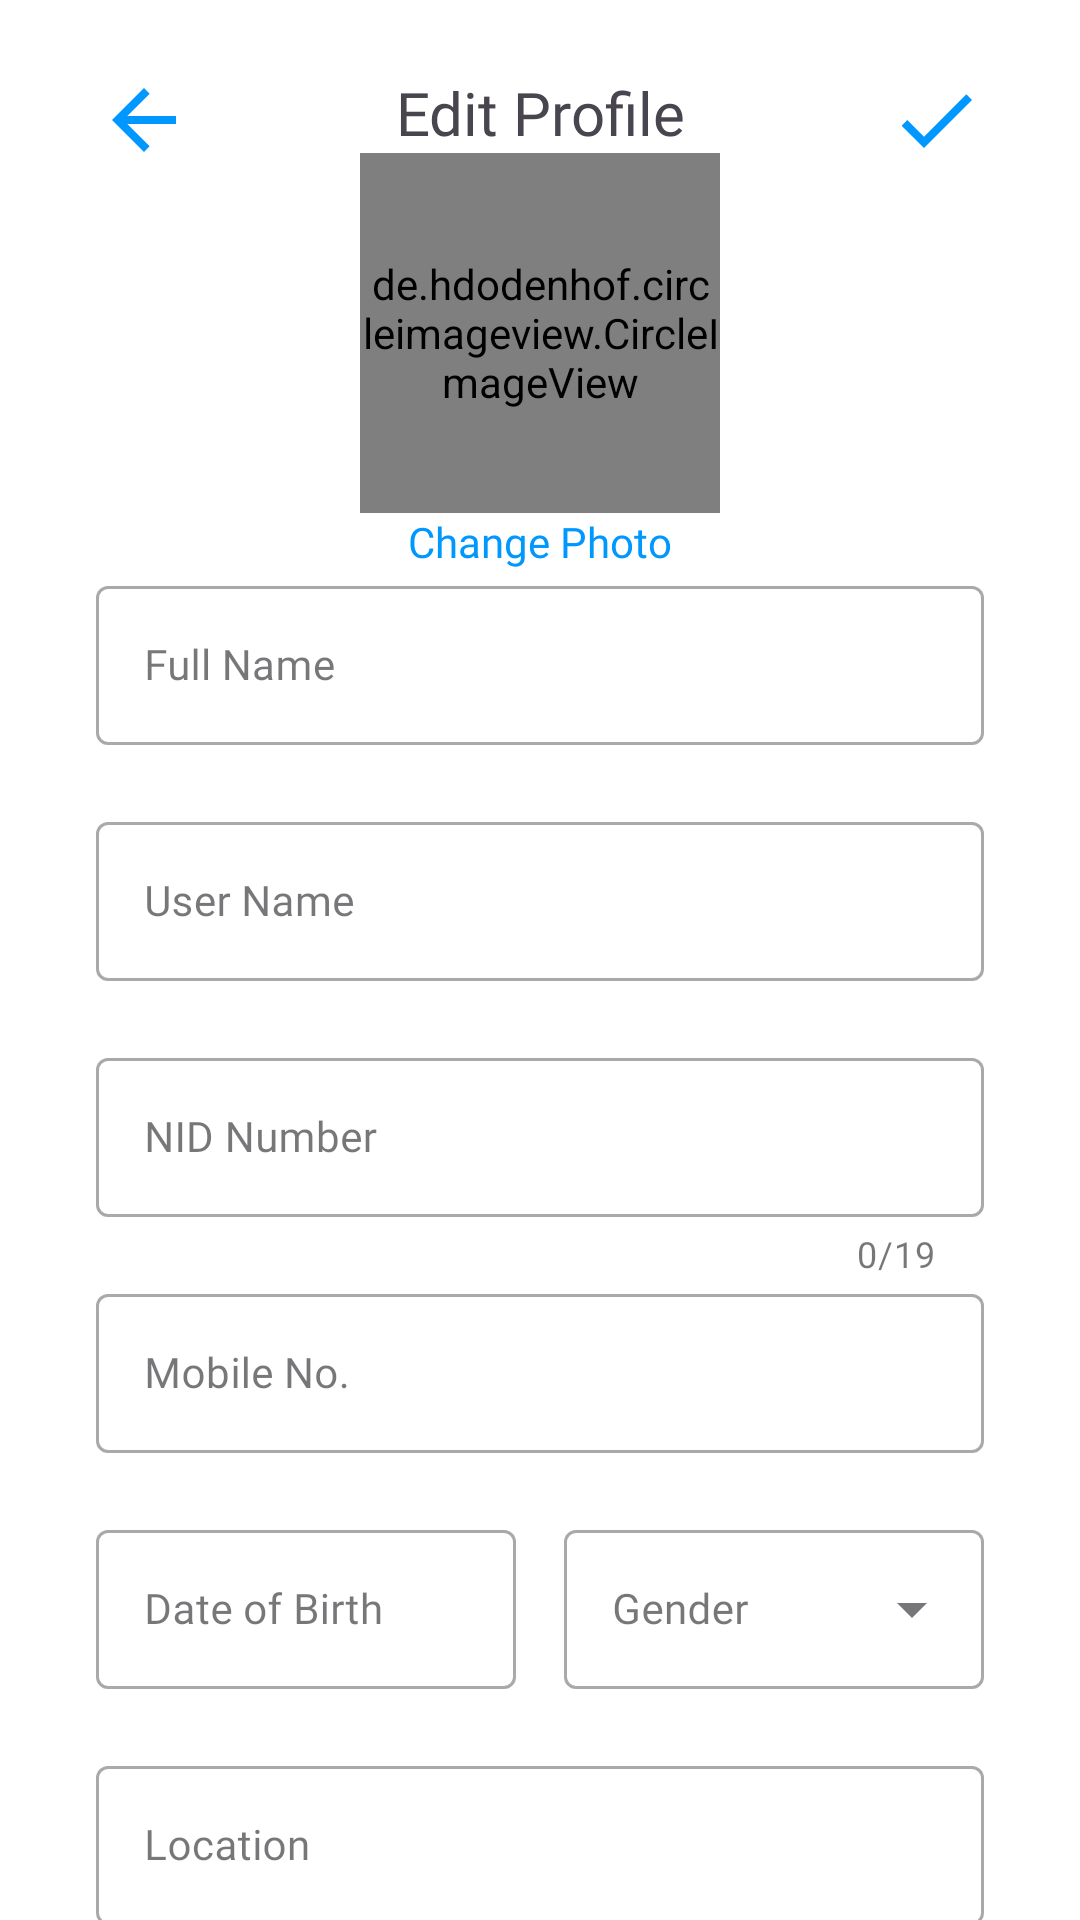

Icon bounding boxes for this 1080px x 1920px phone screenshot, format box=[x1, y1, x2, y2]:
arrow back: box=[112, 88, 176, 152]
tick: box=[901, 94, 972, 148]
